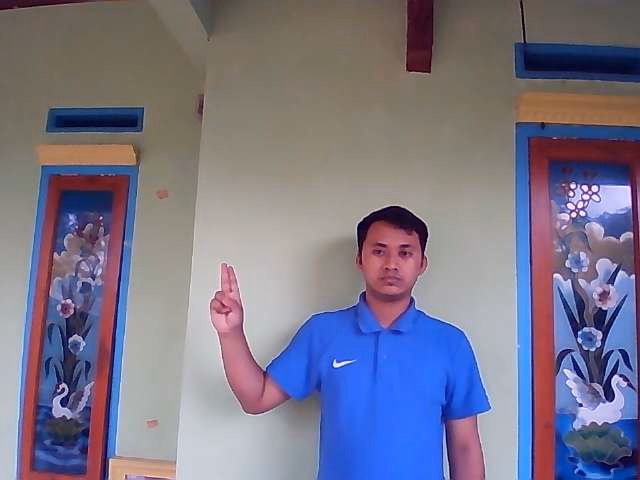U: (208, 261, 245, 332)
